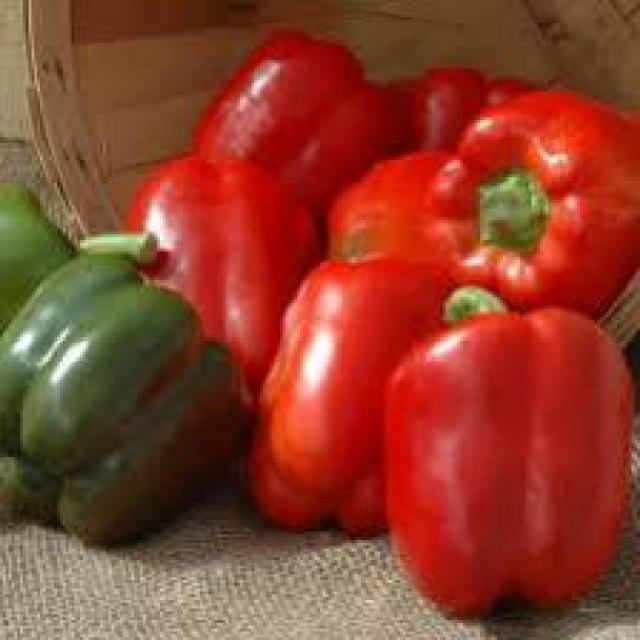Pepper: (0, 186, 243, 551), (383, 306, 637, 623), (243, 254, 454, 534), (429, 89, 640, 323), (126, 157, 326, 400), (191, 29, 371, 177)
